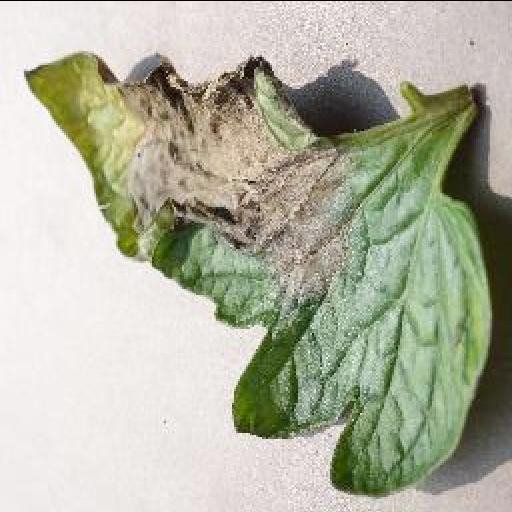disease_tomato: (22, 50, 492, 502)
